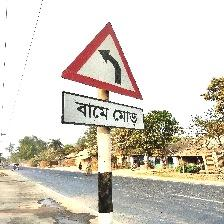Left-Turn: (60, 22, 145, 131)
